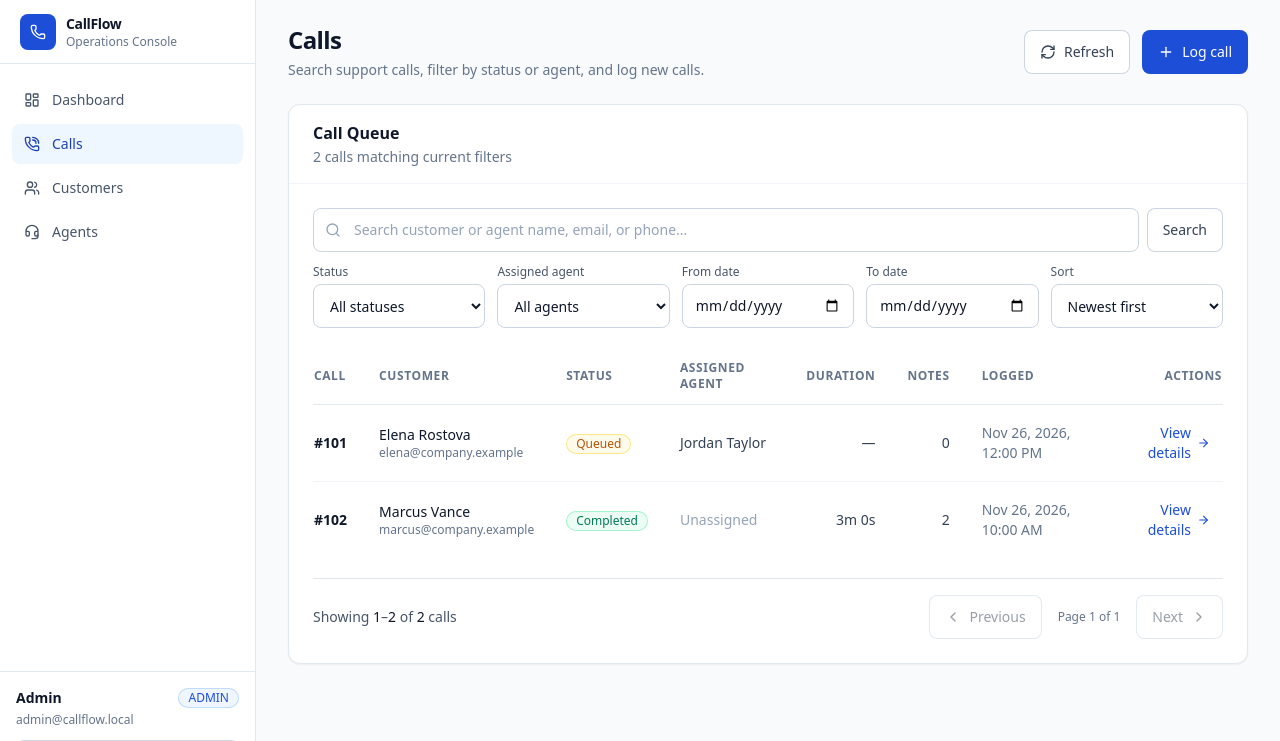
Test case: CallsPage › lists calls, filters by status & search, and logs a new call
The image size is (1280, 741).
Expected: the link "Elena Rostova" is shown, x1=379 y1=425 x2=471 y2=444
Expected: the link "Marcus Vance" is shown, x1=379 y1=502 x2=470 y2=521
Select "Completed" in the dropdown named "Filter by status" at coordinates (399, 306), box x1=313 y1=284 x2=485 y2=328
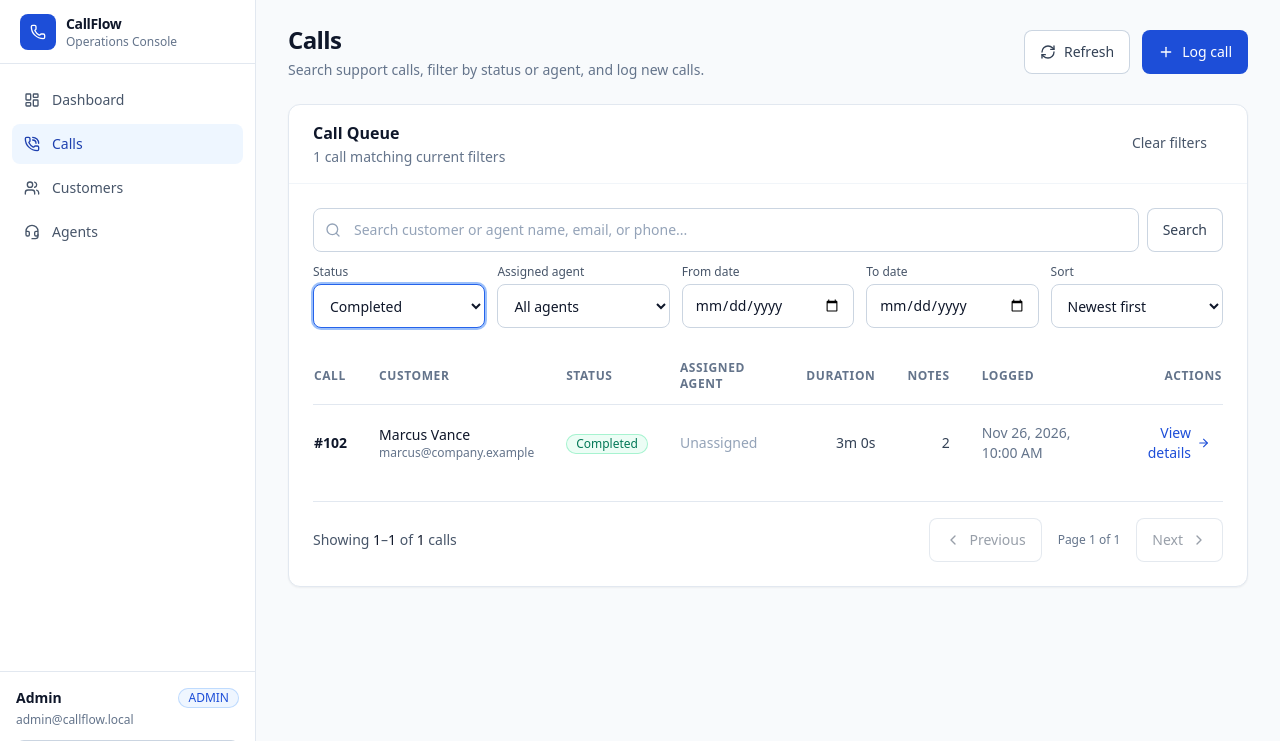
Expected: the link "Marcus Vance" is shown, x1=379 y1=425 x2=470 y2=444
Expected: the link "Elena Rostova" is gone
Click the button "Clear filters" at coordinates (1169, 143), box x1=1116 y1=121 x2=1223 y2=165
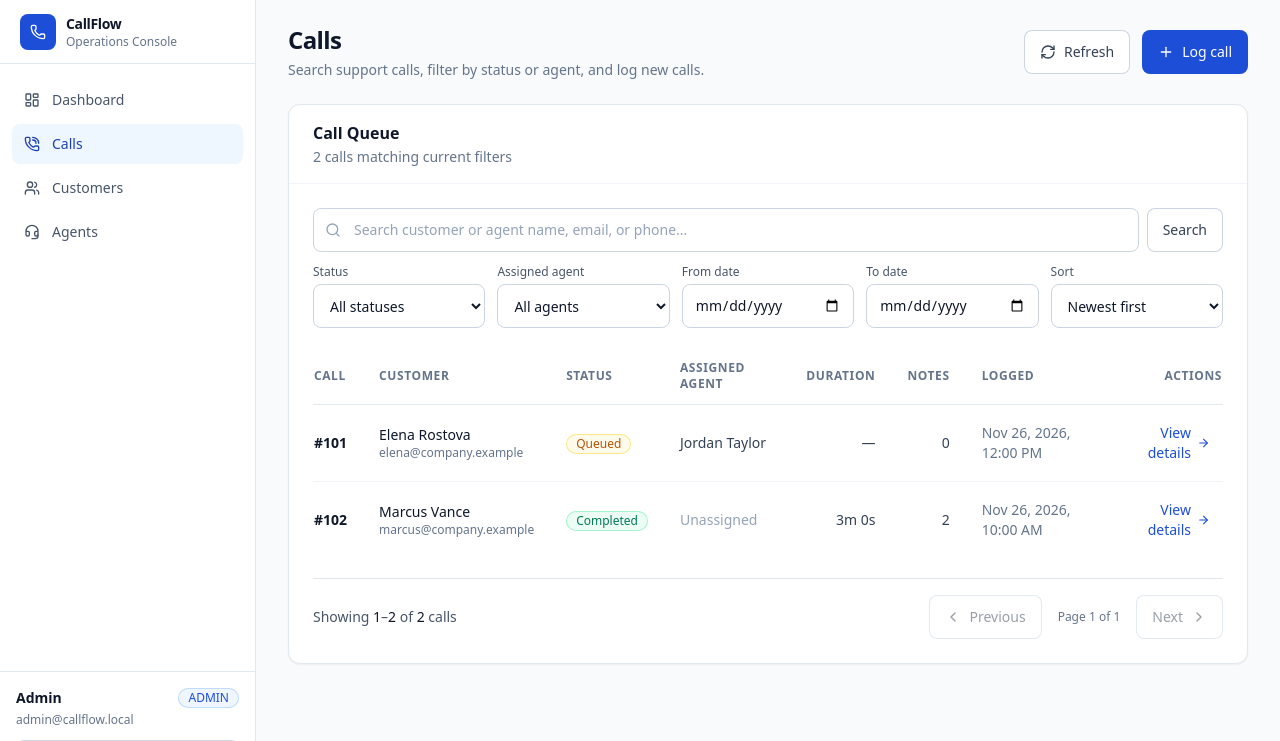
Expected: the link "Elena Rostova" is shown, x1=379 y1=425 x2=471 y2=444
Click the button "Log call" at coordinates (1195, 52), box x1=1142 y1=30 x2=1248 y2=74
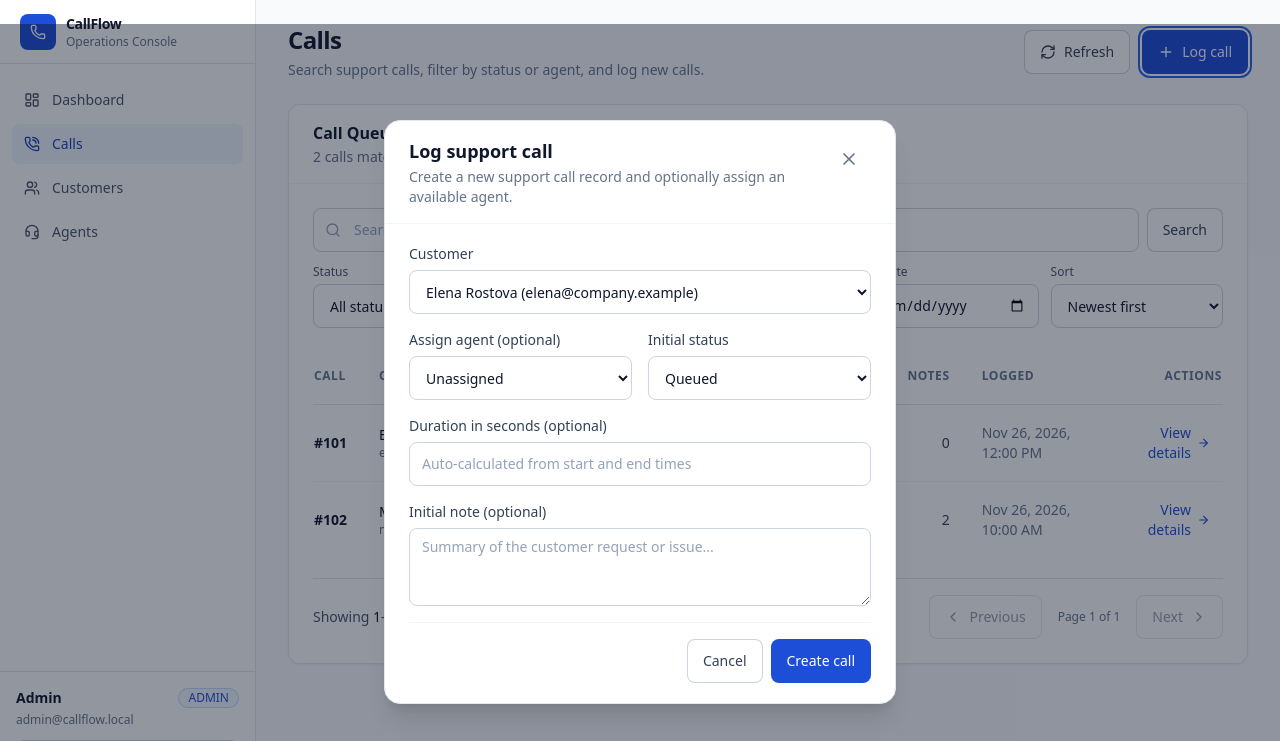
Select "Jordan Taylor (AVAILABLE)" in the dropdown labelled "Assign agent (optional)" at coordinates (520, 378), box x1=409 y1=356 x2=632 y2=400
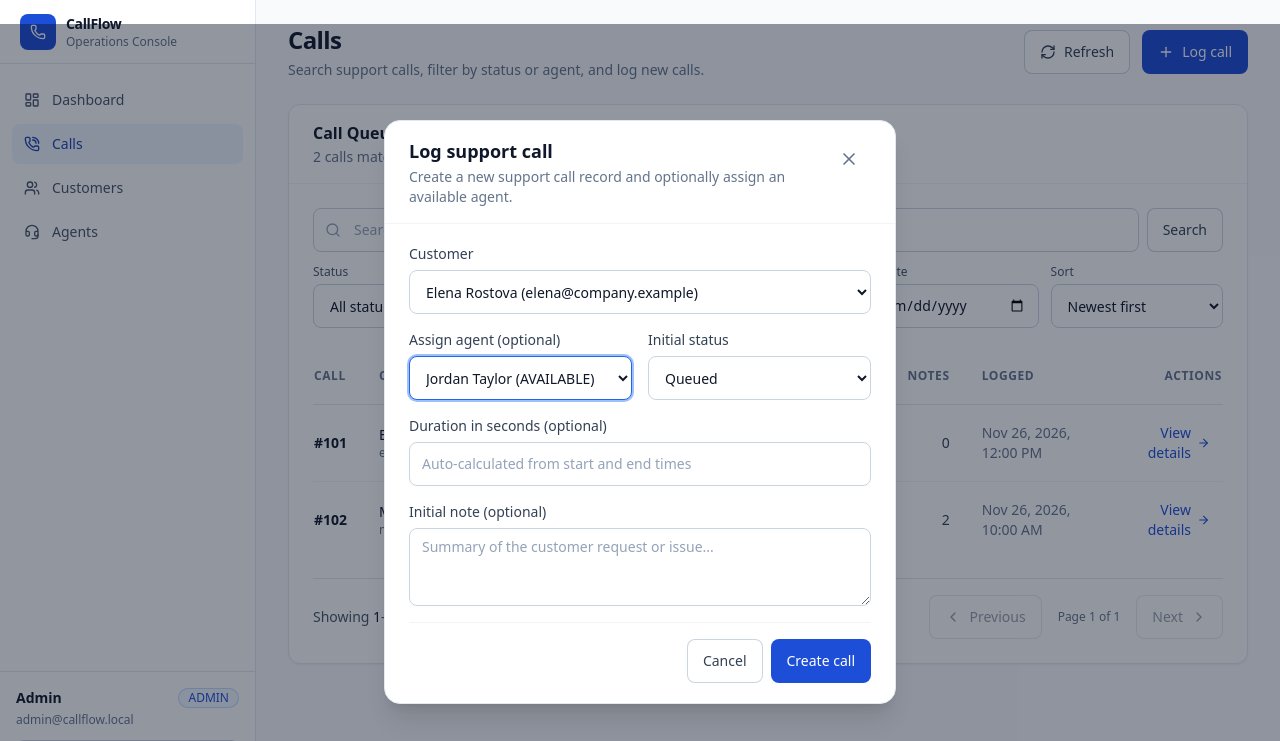
Click the button "Create call" at coordinates (821, 661), box x1=770 y1=639 x2=871 y2=683
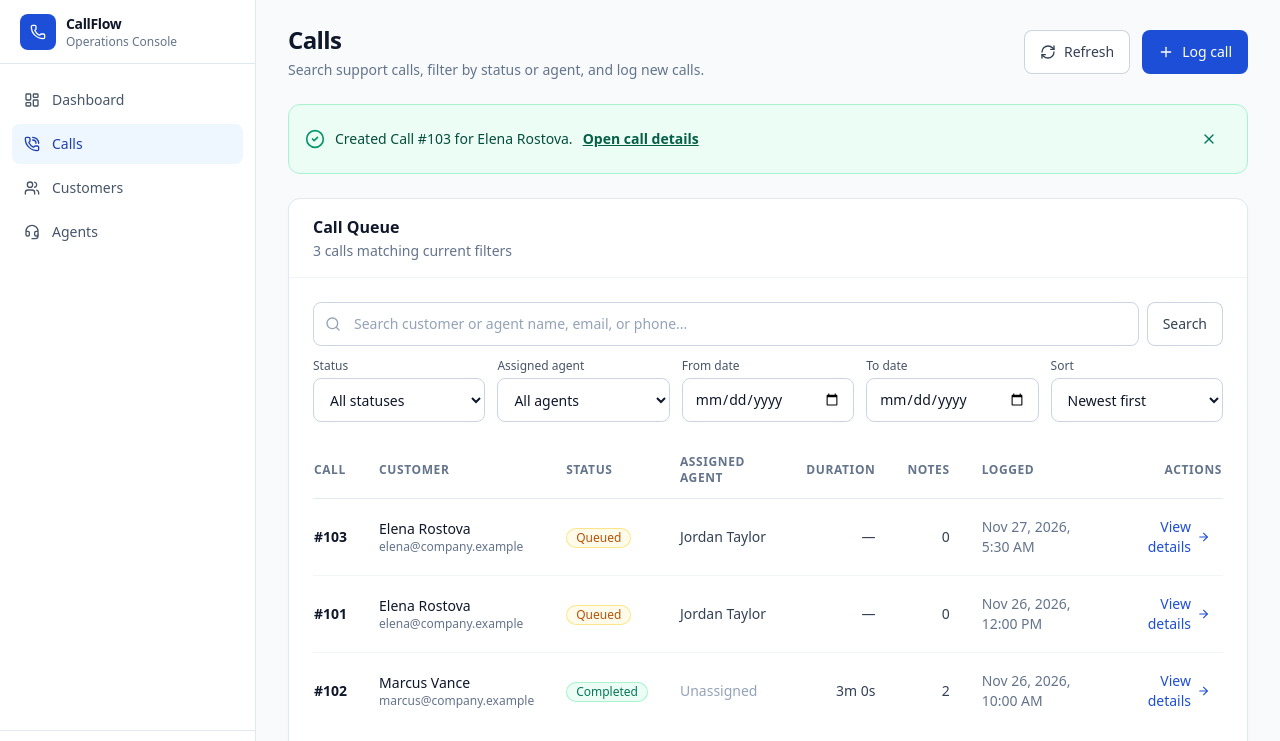
Expected: the message shows "Created Call #103 for Elena Rostova.", x1=288 y1=104 x2=1248 y2=174
